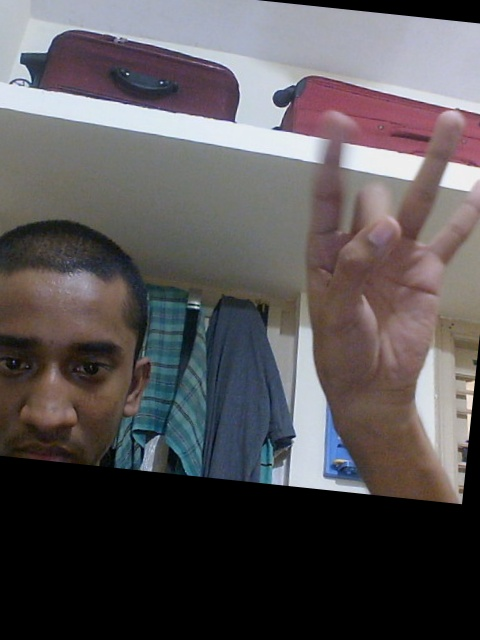hand: (299, 100, 480, 422)
